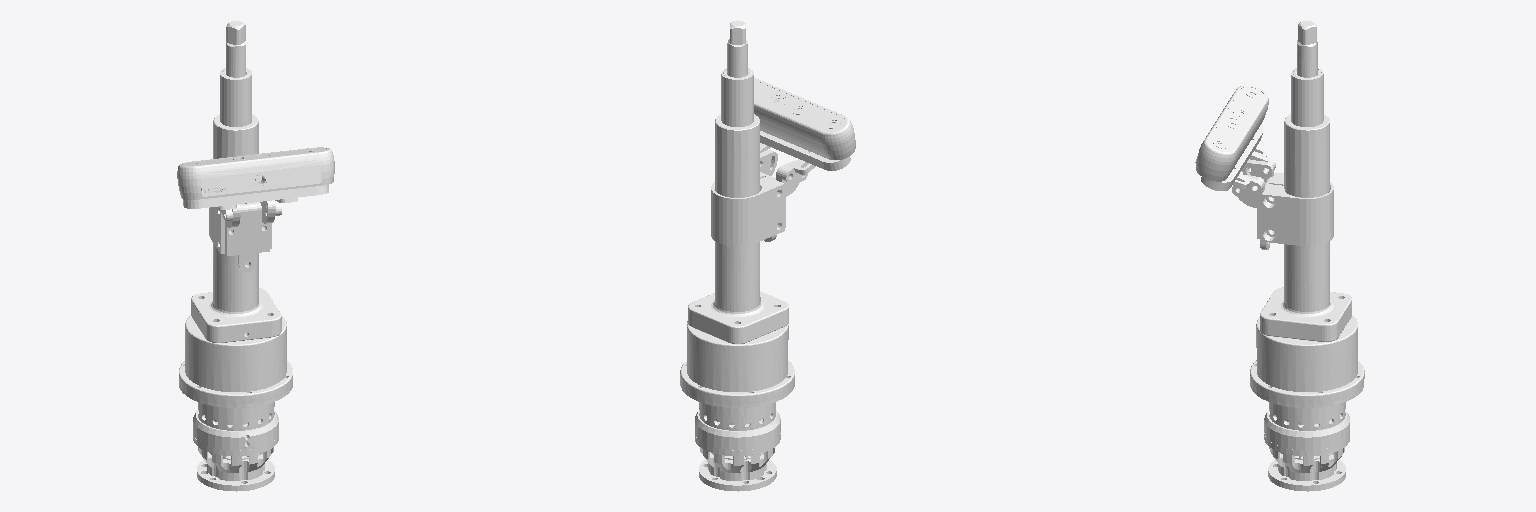
The robot description file, URDF, robot "endeffector":
<?xml version="1.0" encoding="utf-8"?>
<!-- This URDF was automatically created by SolidWorks to URDF Exporter! Originally created by [author] ([email redacted]) 
     Commit Version: 1.6.0-4-g7f85cfe  Build Version: 1.6.7995.38578
     For more information, please see http://wiki.ros.org/sw_urdf_exporter -->
<robot
  name="endeffector">
  <link
    name="endeffector_base_link">
    <inertial>
      <origin
        xyz="-0.0011154 -0.0040842 0.13374"
        rpy="0 0 0" />
      <mass
        value="0.54581" />
      <inertia
        ixx="0.00043211"
        ixy="4.2921E-06"
        ixz="-4.3462E-07"
        iyy="0.00044772"
        iyz="-1.6703E-06"
        izz="0.00028566" />
    </inertial>
    <visual>
      <origin
        xyz="0 0 0"
        rpy="0 0 0" />
      <geometry>
        <mesh
          filename="package://endeffector/meshes/endeffector_base_link.STL" />
      </geometry>
      <material
        name="">
        <color
          rgba="1 1 1 1" />
      </material>
    </visual>
    <collision>
      <origin
        xyz="0 0 0"
        rpy="0 0 0" />
      <geometry>
        <mesh
          filename="package://endeffector/meshes/endeffector_base_link.STL" />
      </geometry>
    </collision>
  </link>
  <link
    name="camera_link">
    <inertial>
      <origin
        xyz="-0.0099758 -5.5878E-05 -0.012823"
        rpy="0 0 0" />
      <mass
        value="0.083591" />
      <inertia
        ixx="9.6552E-06"
        ixy="3.3067E-08"
        ixz="2.1363E-08"
        iyy="0.00010055"
        iyz="-5.829E-08"
        izz="0.00010128" />
    </inertial>
    <visual>
      <origin
        xyz="0 0 0"
        rpy="0 0 0" />
      <geometry>
        <mesh
          filename="package://endeffector/meshes/camera_link.STL" />
      </geometry>
      <material
        name="">
        <color
          rgba="1 1 1 1" />
      </material>
    </visual>
    <collision>
      <origin
        xyz="0 0 0"
        rpy="0 0 0" />
      <geometry>
        <mesh
          filename="package://endeffector/meshes/camera_link.STL" />
      </geometry>
    </collision>
  </link>
  <joint
    name="camera_joint"
    type="fixed">
    <origin
      xyz="-0.004761 -0.056692 0.29415"
      rpy="-0.27816 0 -0.26047" />
    <parent
      link="endeffector_base_link" />
    <child
      link="camera_link" />
    <axis
      xyz="0 0 0" />
  </joint>
  <link
    name="end_tool_link">
    <inertial>
      <origin
        xyz="8.7797E-08 -1.5275E-07 -0.067279"
        rpy="0 0 0" />
      <mass
        value="0.025636" />
      <inertia
        ixx="3.2758E-05"
        ixy="1.2024E-11"
        ixz="-1.1774E-10"
        iyy="3.2758E-05"
        iyz="2.0475E-10"
        izz="1.1107E-06" />
    </inertial>
    <visual>
      <origin
        xyz="0 0 0"
        rpy="0 0 0" />
      <geometry>
        <mesh
          filename="package://endeffector/meshes/end_tool_link.STL" />
      </geometry>
      <material
        name="">
        <color
          rgba="1 1 1 1" />
      </material>
    </visual>
    <collision>
      <origin
        xyz="0 0 0"
        rpy="0 0 0" />
      <geometry>
        <mesh
          filename="package://endeffector/meshes/end_tool_link.STL" />
      </geometry>
    </collision>
  </link>
  <joint
    name="end_tool_joint"
    type="fixed">
    <origin
      xyz="0 0 0.38202"
      rpy="0 0 0" />
    <parent
      link="endeffector_base_link" />
    <child
      link="end_tool_link" />
    <axis
      xyz="0 0 0" />
  </joint>
</robot>

--- Render facts (derived) ---
Views: 3 orthographic renders of the robot side by side, from view 1: azimuth 30°, elevation 25°; view 2: azimuth 150°, elevation 25°; view 3: azimuth 270°, elevation 25°.
Robot: endeffector — 3 links, 2 joints (2 fixed); root link endeffector_base_link; default pose: every joint at zero.
Visible links, largest first — view 1: endeffector_base_link, camera_link, end_tool_link; view 2: endeffector_base_link, camera_link, end_tool_link; view 3: endeffector_base_link, camera_link, end_tool_link.
Link boxes in pixels (box(x1,y1,x2,y2)): endeffector_base_link: box(179, 68, 328, 491); camera_link: box(177, 147, 334, 199); end_tool_link: box(226, 20, 245, 77); endeffector_base_link: box(680, 68, 850, 491); camera_link: box(754, 78, 855, 159); end_tool_link: box(727, 20, 747, 77); endeffector_base_link: box(1201, 68, 1364, 491); camera_link: box(1195, 86, 1268, 181); end_tool_link: box(1297, 20, 1317, 77).
Size in the robot's own frame: 0.1209 by 0.1298 by 0.382 metres.
3 mesh visuals loaded from 3 distinct referenced files (3 binary STL).